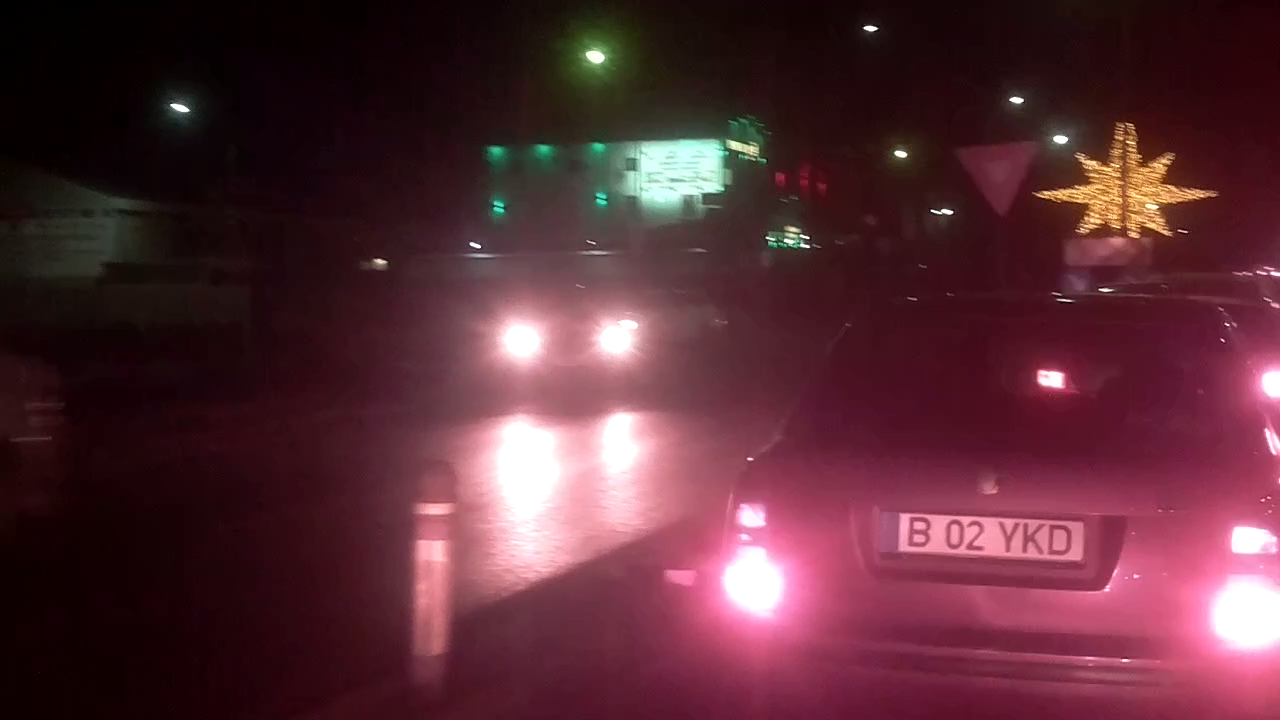license-plate: (881, 504, 1100, 568)
